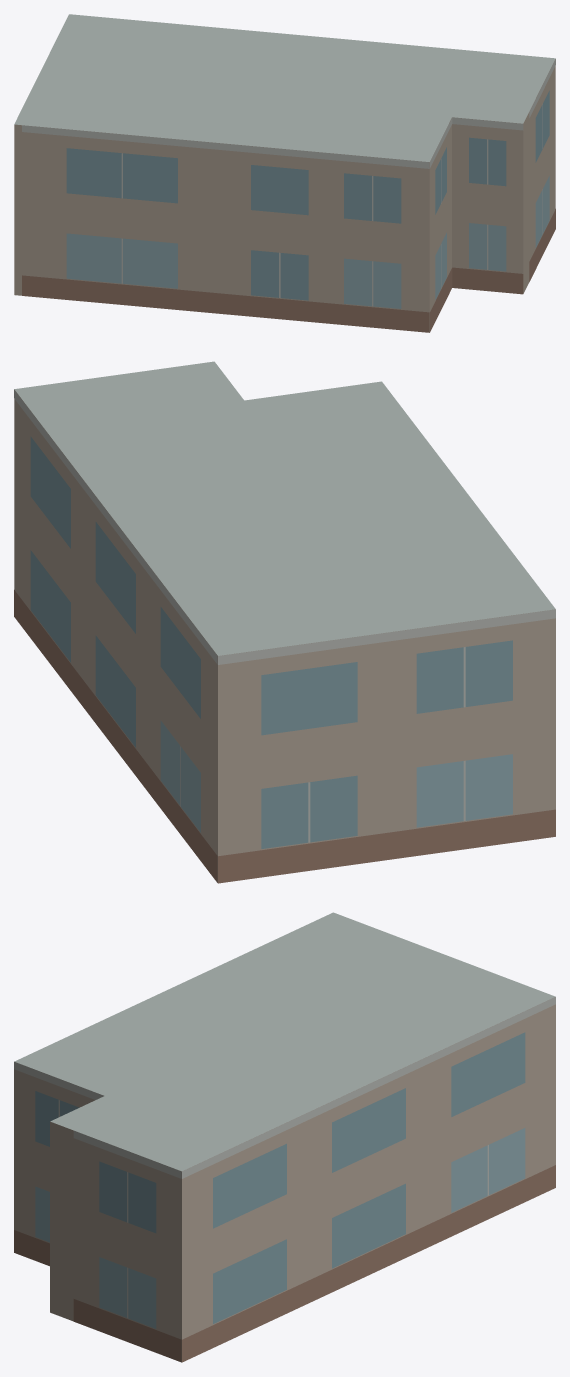
File: survey-upis-32869099.glb
3 renders of one model, top to bottom at view 1: azimuth 30°, elevation 25°; view 2: azimuth 150°, elevation 25°; view 3: azimuth 270°, elevation 25°, orthographic. The views are drawn at different scales.
Visible parts, largest first — view 1: survey-upis-32869099.tmp; view 2: survey-upis-32869099.tmp; view 3: survey-upis-32869099.tmp.
Boxes of the visible parts, x1,y1,x2,y2 form: survey-upis-32869099.tmp: [14, 14, 555, 332]; survey-upis-32869099.tmp: [14, 361, 555, 883]; survey-upis-32869099.tmp: [14, 912, 555, 1362].
Size of the model in its own units: 17.74 by 6.1 by 15.68.
